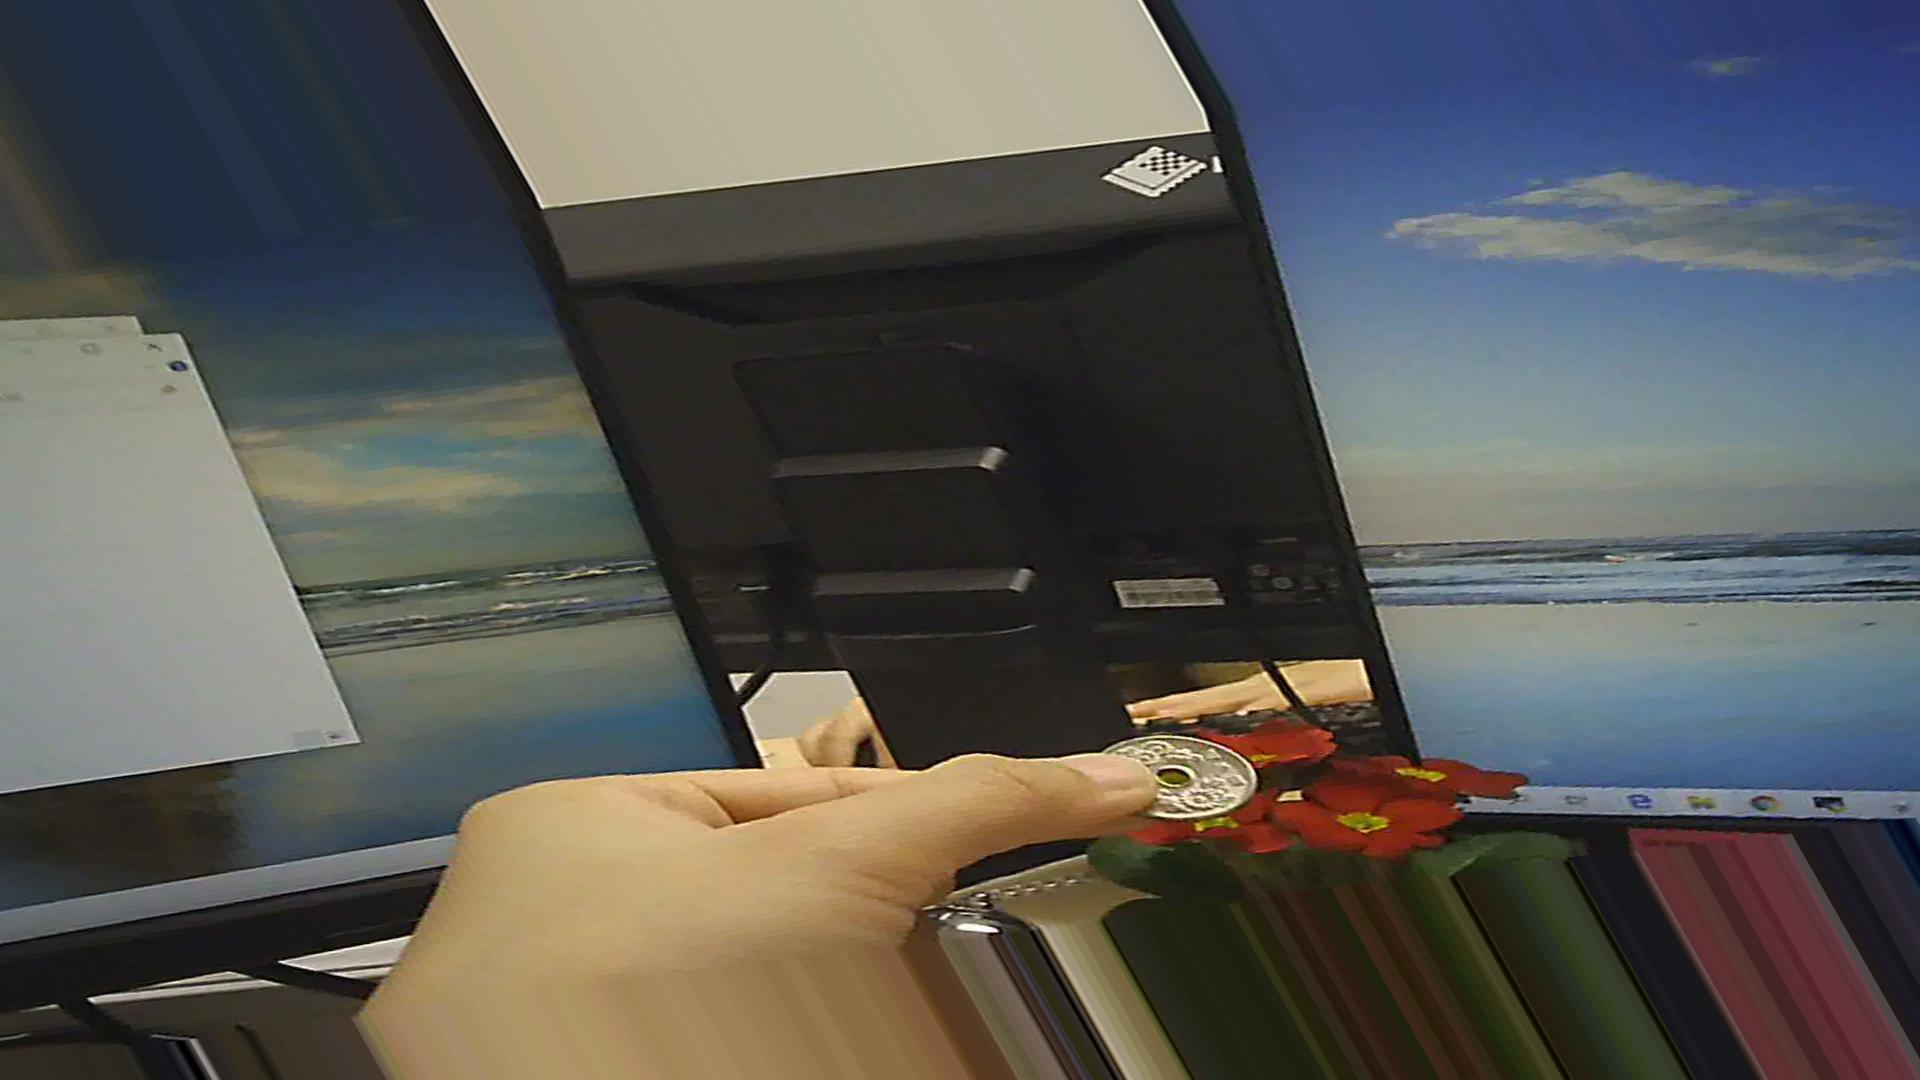50 Yen: (1095, 729, 1269, 829)
